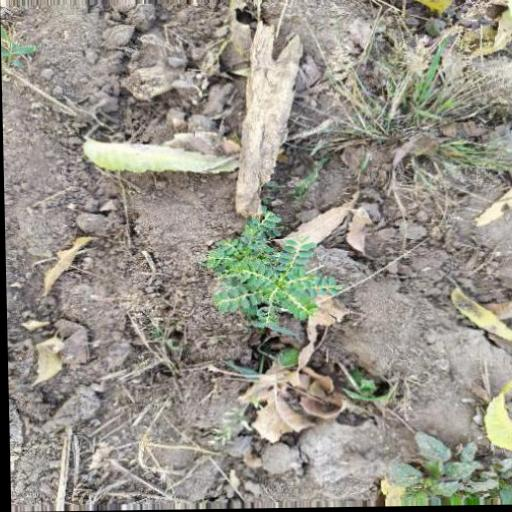weed: (294, 37, 501, 180), (202, 219, 335, 348)
